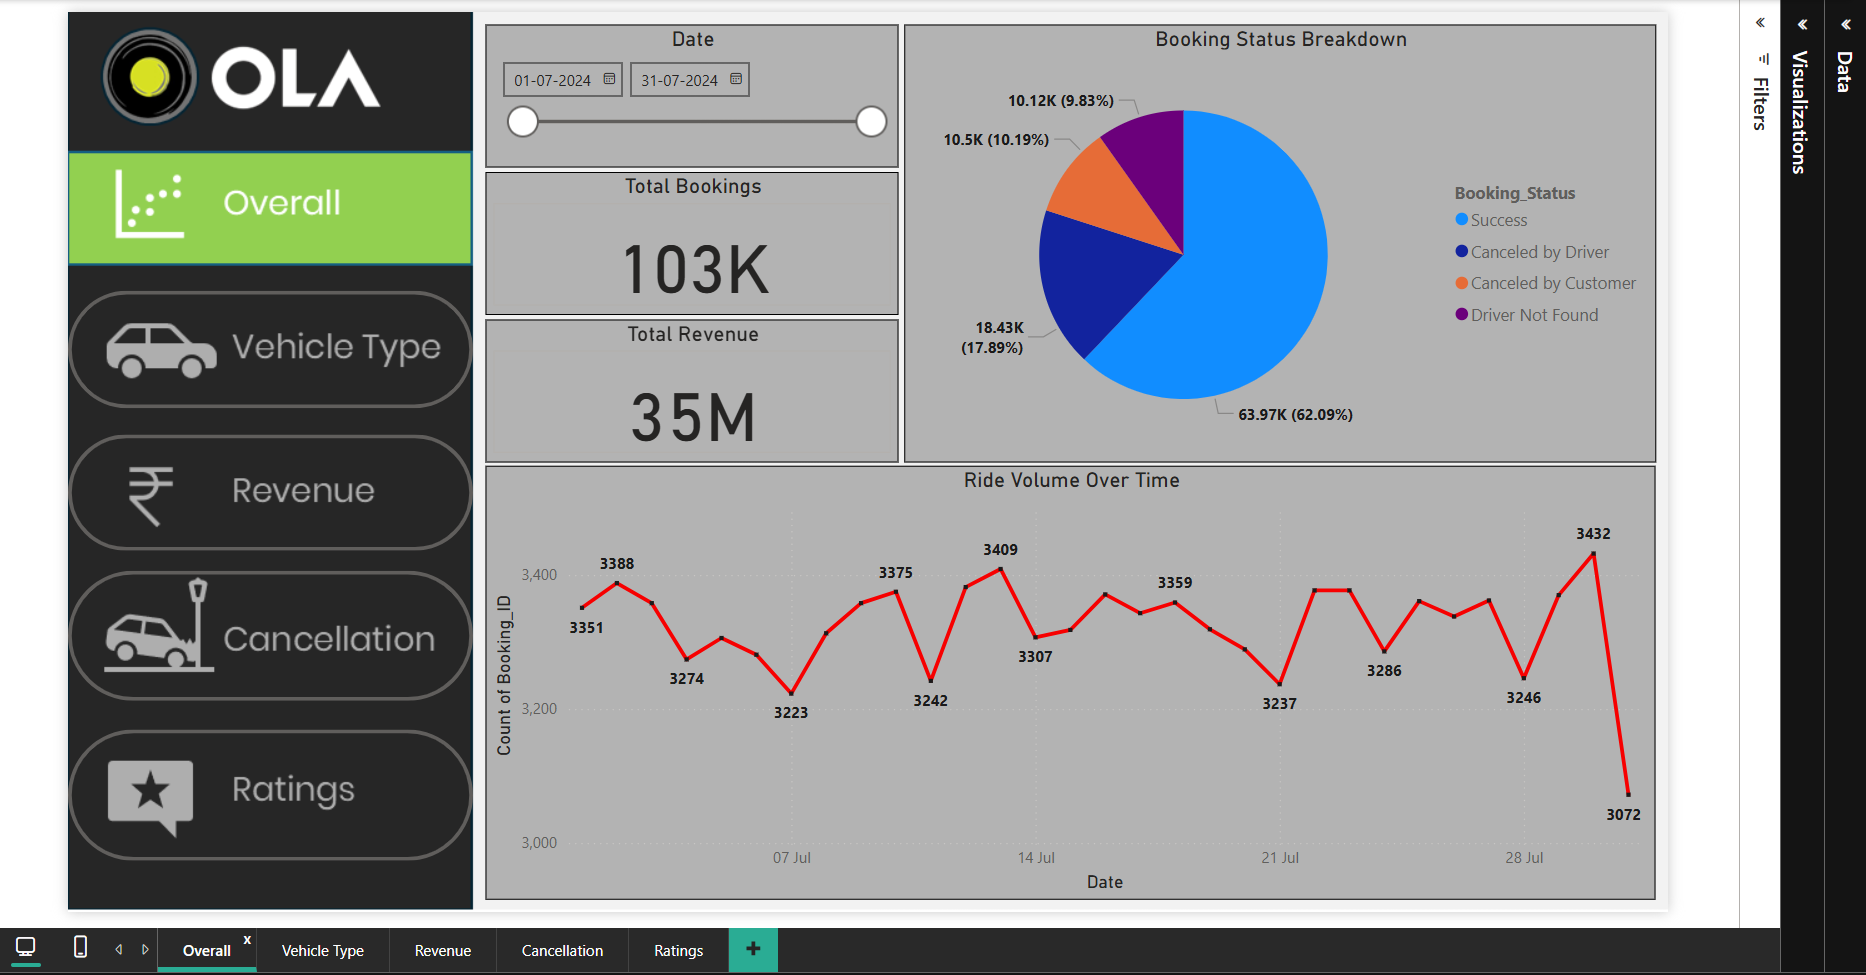

What the dashboard file says about the page in this screenshot:
{"tool":"powerbi","page":{"name":"Overall","canvas":[1280,720],"ordinal":0},"visuals":[{"type":"actionButton","box":[0,223.3,324.4,93.3],"z":0},{"type":"actionButton","box":[0,337.8,324.4,93.3],"z":1000},{"type":"actionButton","box":[0,446.7,324.4,104.4],"z":2000},{"type":"actionButton","box":[0,574.4,324.4,104.4],"z":3000},{"type":"lineChart","title":"Ride Volume Over Time","fields":{"Category":["Bookings-100000-Rows.Date"],"Y":["CountNonNull(Bookings-100000-Rows.Booking_ID)"]},"box":[334.4,363.3,935.6,346.7],"z":4000},{"type":"pieChart","title":"Booking Status Breakdown","fields":{"Category":["Bookings-100000-Rows.Booking_Status"],"Y":["CountNonNull(Bookings-100000-Rows.Booking_ID)"]},"box":[668.9,10,601.1,350],"z":5000},{"type":"slicer","title":"Date","fields":{"Values":["Bookings-100000-Rows.Date"]},"box":[334.4,10,330,114.4],"z":6000},{"type":"cardVisual","title":"Total Bookings","fields":{"Data":["Bookings-100000-Rows.Total Bookings"]},"box":[334.4,127.8,330,114.4],"z":7000},{"type":"cardVisual","title":"Total Revenue","fields":{"Data":["Sum(Bookings-100000-Rows.Booking_Value)"]},"box":[334.4,245.6,330,114.4],"z":8000}]}

Visuals, with their boxes on the page's 1280x720 design canvas (x1, y1, x2, y2). These are canvas units, not pixel positions in the 1866x975 screenshot, which may show the page scaled, cropped or inside an application window:
actionButton: 0/223/324/317
actionButton: 0/338/324/431
actionButton: 0/447/324/551
actionButton: 0/574/324/679
"Ride Volume Over Time" lineChart: 334/363/1270/710
"Booking Status Breakdown" pieChart: 669/10/1270/360
"Date" slicer: 334/10/664/124
"Total Bookings" cardVisual: 334/128/664/242
"Total Revenue" cardVisual: 334/246/664/360
